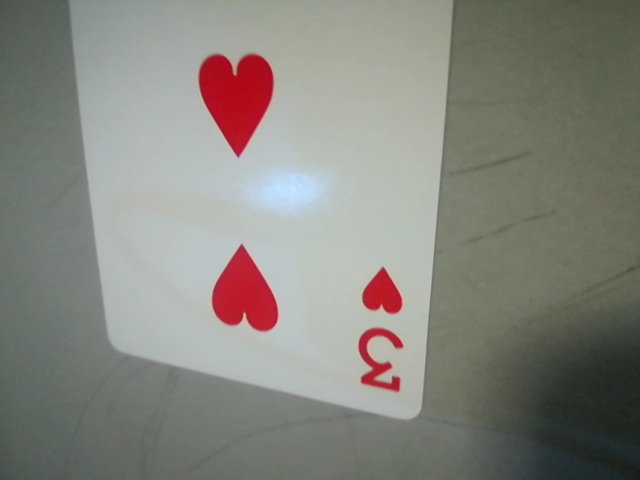hx 3: (343, 257, 418, 405)
